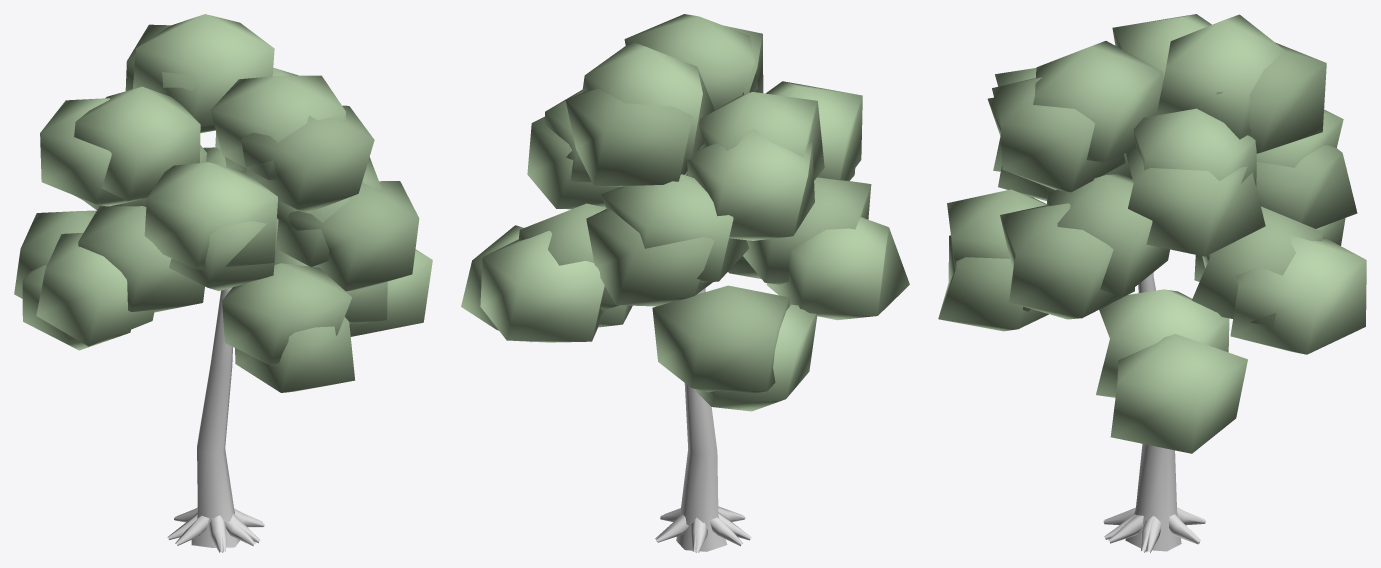
Rendered from park-trees-horizon.glb.
The picture shows the model from 3 angles, left to right: view 1: azimuth 30°, elevation 25°; view 2: azimuth 150°, elevation 25°; view 3: azimuth 270°, elevation 25°; orthographic projection. The views are drawn at different scales.
Visible parts, largest first — view 1: Zelkova.horizon.Foliage, Camphor.horizon.Foliage, Camphor.horizon.Bark, Zelkova.horizon.Bark; view 2: Camphor.horizon.Foliage, Zelkova.horizon.Foliage, Zelkova.horizon.Bark, Camphor.horizon.Bark; view 3: Camphor.horizon.Foliage, Zelkova.horizon.Foliage, Zelkova.horizon.Bark, Camphor.horizon.Bark.
Part boxes in pixels (x1,y1,x2,y2): Zelkova.horizon.Foliage: [14, 14, 387, 365]; Camphor.horizon.Foliage: [22, 24, 432, 392]; Camphor.horizon.Bark: [167, 291, 262, 552]; Zelkova.horizon.Bark: [174, 287, 264, 552]; Camphor.horizon.Foliage: [461, 25, 909, 411]; Zelkova.horizon.Foliage: [518, 14, 871, 393]; Zelkova.horizon.Bark: [656, 383, 751, 552]; Camphor.horizon.Bark: [655, 288, 742, 552]; Camphor.horizon.Foliage: [938, 42, 1366, 453]; Zelkova.horizon.Foliage: [947, 14, 1345, 397]; Zelkova.horizon.Bark: [1105, 272, 1204, 552]; Camphor.horizon.Bark: [1103, 444, 1205, 552].
Size of the model in its own units: 8.55 by 10.39 by 7.58.
